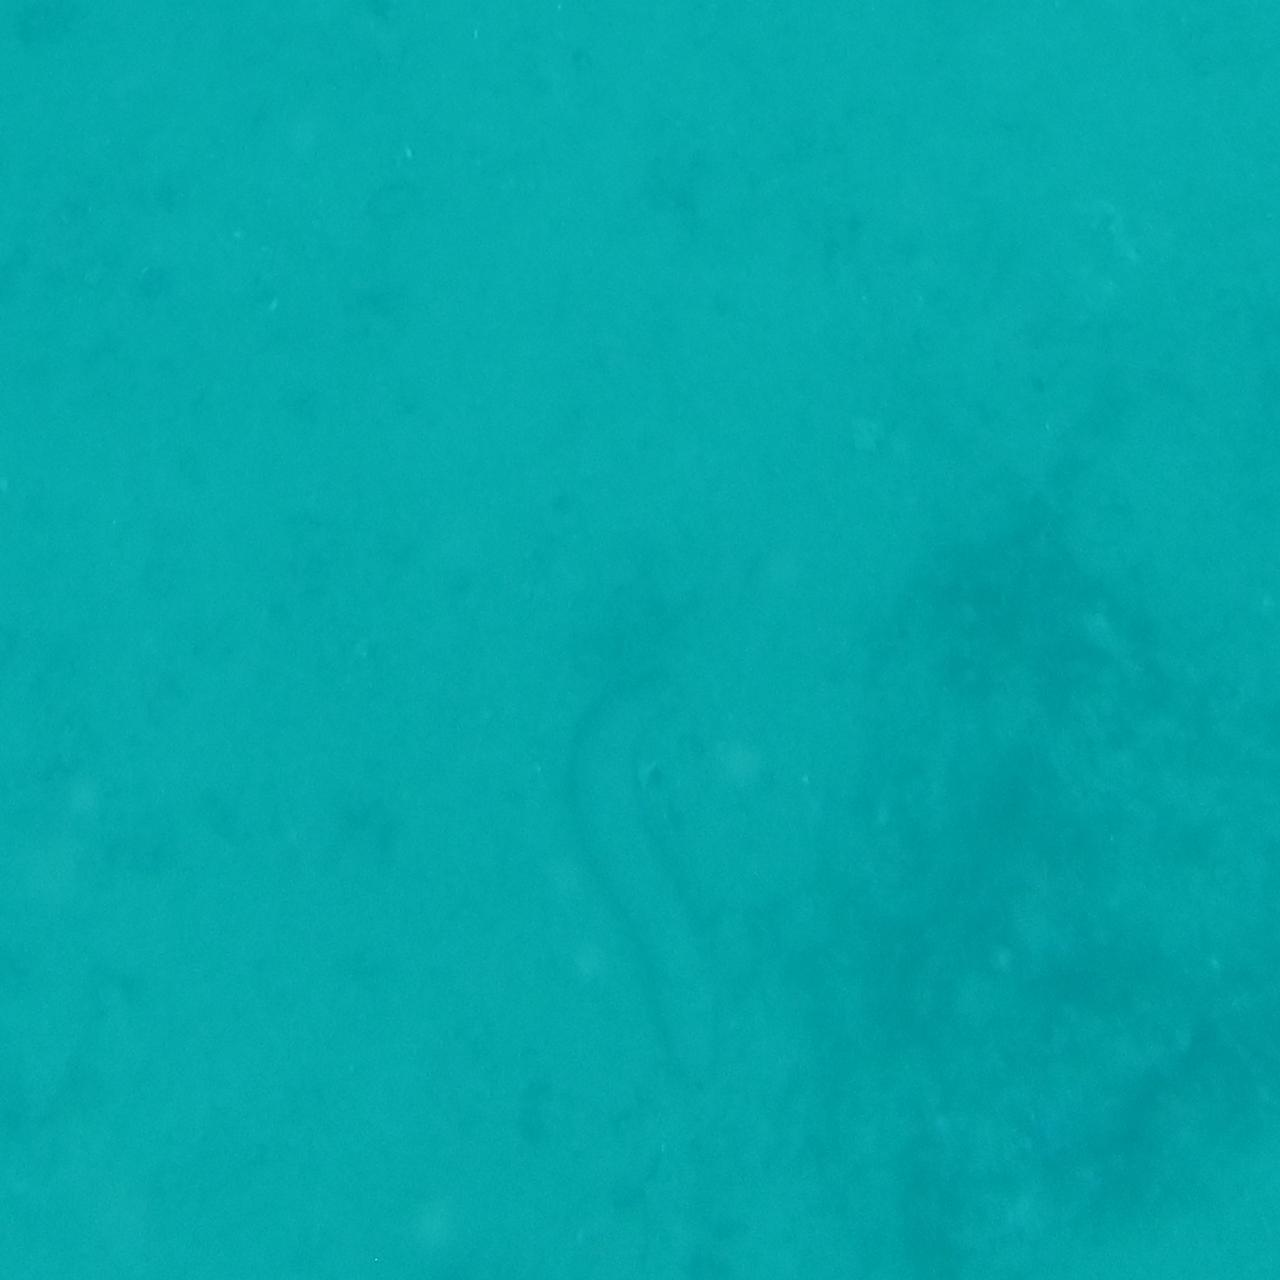Holothuria tubulosa: (558, 692, 722, 1094)
